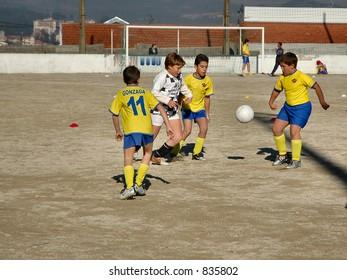ballon_football: (234, 104, 254, 124)
